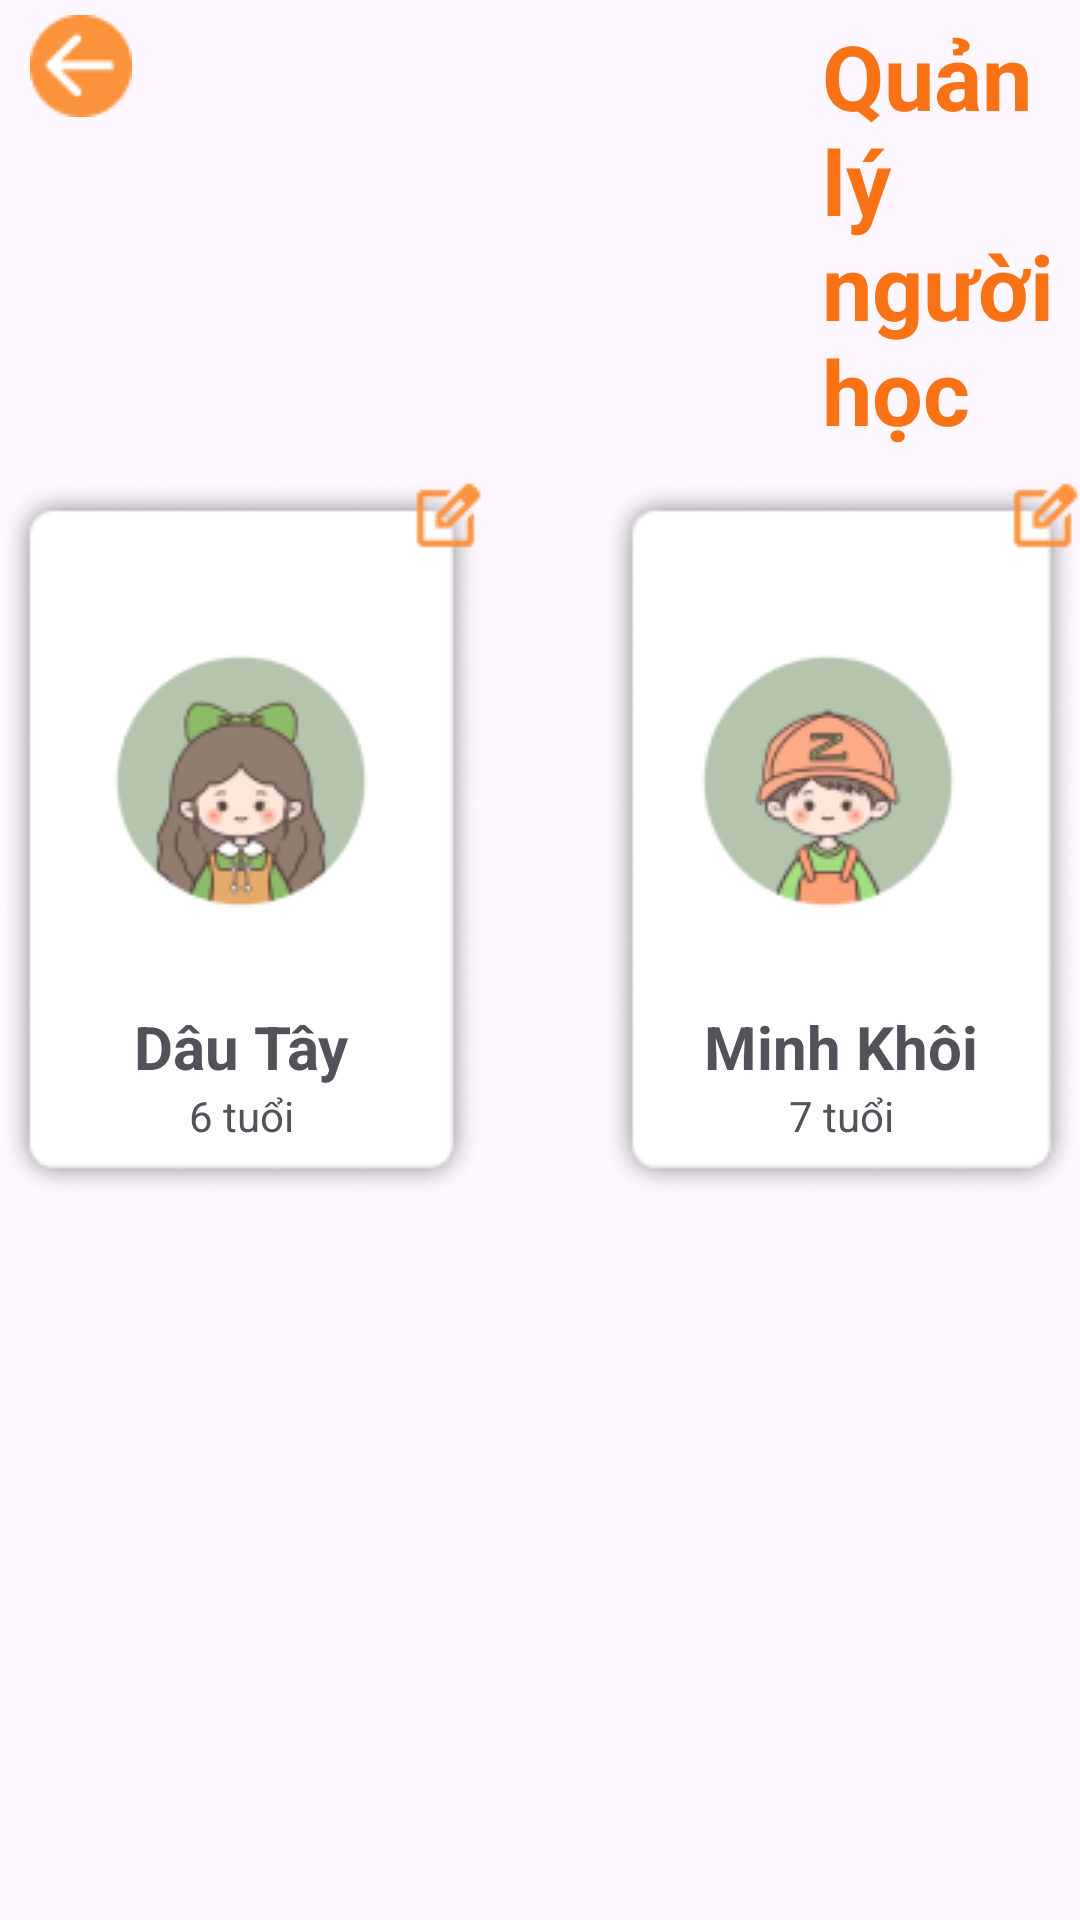

Icons on this 1080 x 1920 Android screen, each with its box as detection(x1, y1, x2, y2):
avt: detection(117, 657, 365, 906), detection(704, 657, 952, 906)
edit square: detection(408, 483, 481, 556), detection(1005, 483, 1078, 556)
exit: detection(30, 15, 132, 117)
